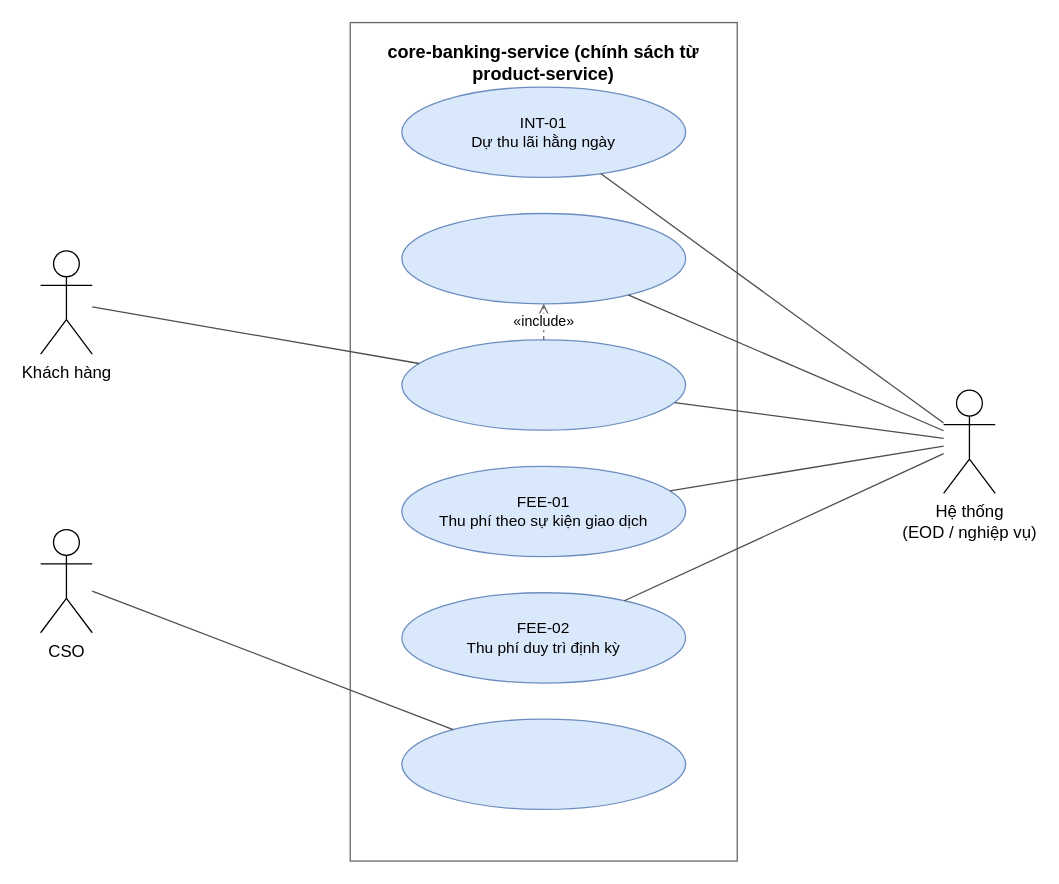
This 1059x884 diagram has some shape labels left out. The centre of each missing label's shape, as x and y in pixels:
"FEE-03 Miễn / giảm phí" goes at point (543, 763).
"INT-02 Trả lãi định kỳ" goes at point (543, 258).
"INT-03 Đáo hạn tiền gửi có kỳ hạn" goes at point (543, 384).
